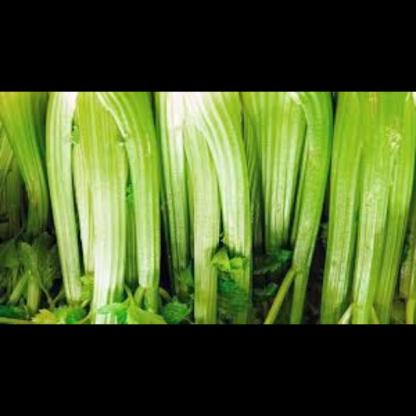celery: (1, 92, 412, 324)
